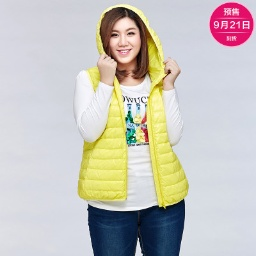face: (98, 9, 155, 78)
